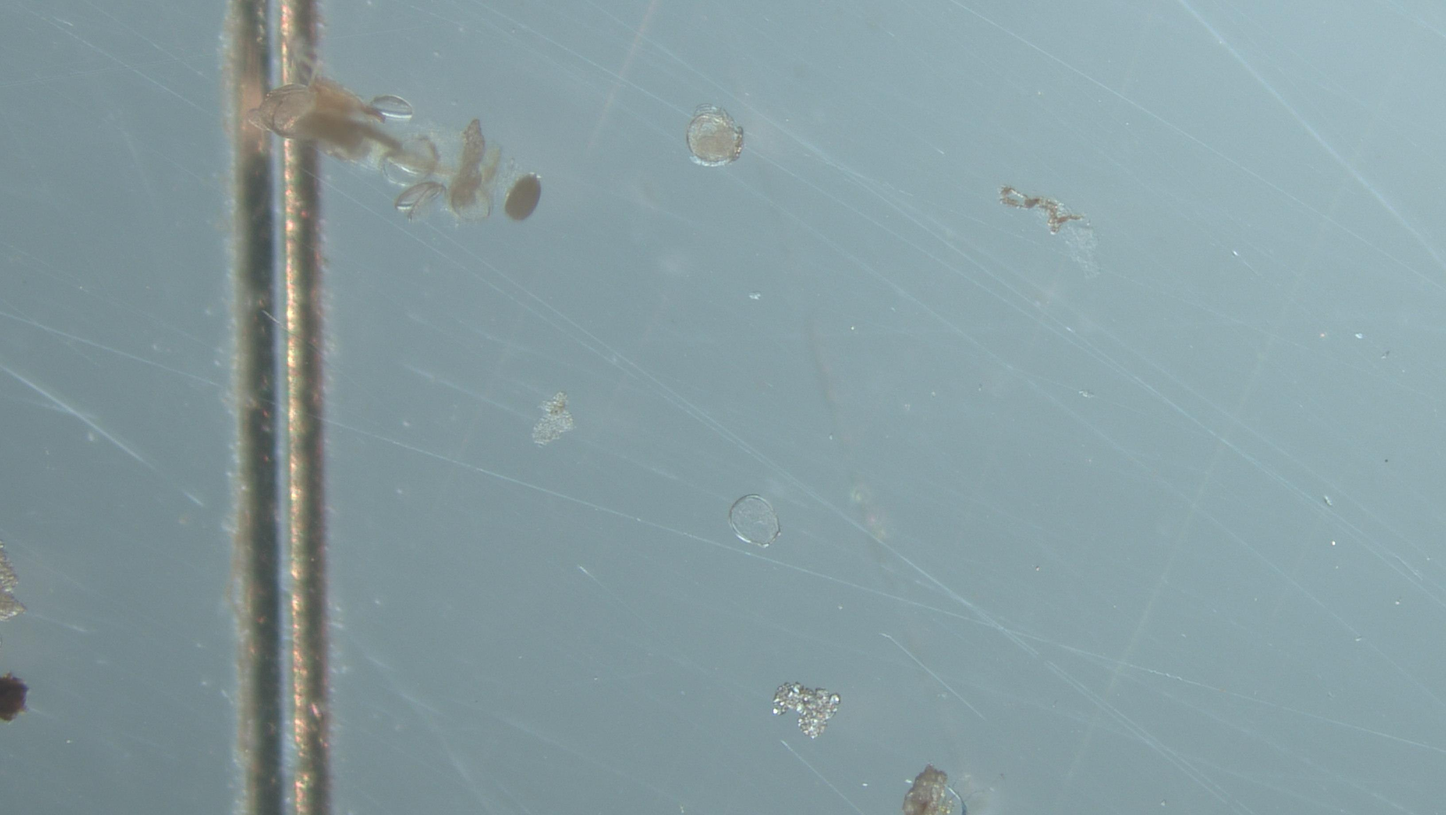dead: (729, 495, 781, 548)
live: (686, 105, 744, 167)
